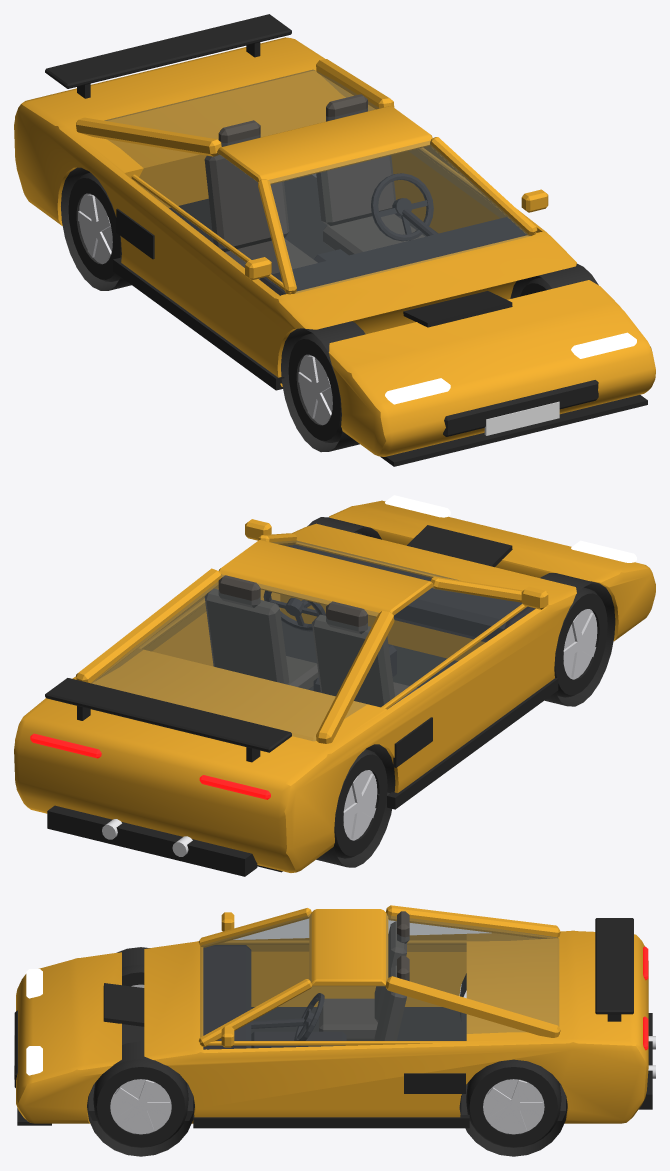
The model's file is player_car.glb.
3 views of the same model, one above another, from view 1: azimuth 30°, elevation 25°; view 2: azimuth 150°, elevation 25°; view 3: azimuth 270°, elevation 25° (orthographic). The views are drawn at different scales.
Visible parts, largest first — view 1: body, glass, spoiler, wheel_FL (×2), steering_wheel, rim_FR, rim_RR; view 2: body, glass, spoiler, wheel_FL (×2), rim_FR, rim_RR, steering_wheel; view 3: body, glass, wheel_FL (×3), spoiler, rim_RL, rim_FL, steering_wheel.
Boxes of the visible parts, bbox=[...] form: body: bbox=[14, 37, 655, 466]; glass: bbox=[104, 69, 530, 293]; spoiler: bbox=[45, 14, 291, 98]; wheel_FL (×2): bbox=[68, 172, 342, 442]; steering_wheel: bbox=[371, 173, 433, 241]; rim_FR: bbox=[298, 354, 332, 425]; rim_RR: bbox=[78, 193, 112, 264]; body: bbox=[14, 495, 655, 876]; glass: bbox=[91, 540, 521, 740]; spoiler: bbox=[45, 678, 291, 762]; wheel_FL (×2): bbox=[333, 587, 607, 858]; rim_FR: bbox=[563, 609, 597, 679]; rim_RR: bbox=[343, 770, 377, 840]; steering_wheel: bbox=[263, 590, 325, 631]; body: bbox=[14, 905, 655, 1156]; glass: bbox=[200, 913, 558, 1047]; wheel_FL (×3): bbox=[93, 964, 561, 1147]; spoiler: bbox=[595, 918, 633, 1021]; rim_RL: bbox=[483, 1079, 544, 1134]; rim_FL: bbox=[110, 1079, 171, 1134]; steering_wheel: bbox=[294, 993, 324, 1046].
Bounding box in the file's own units: 2.12 × 1.29 × 4.65.
